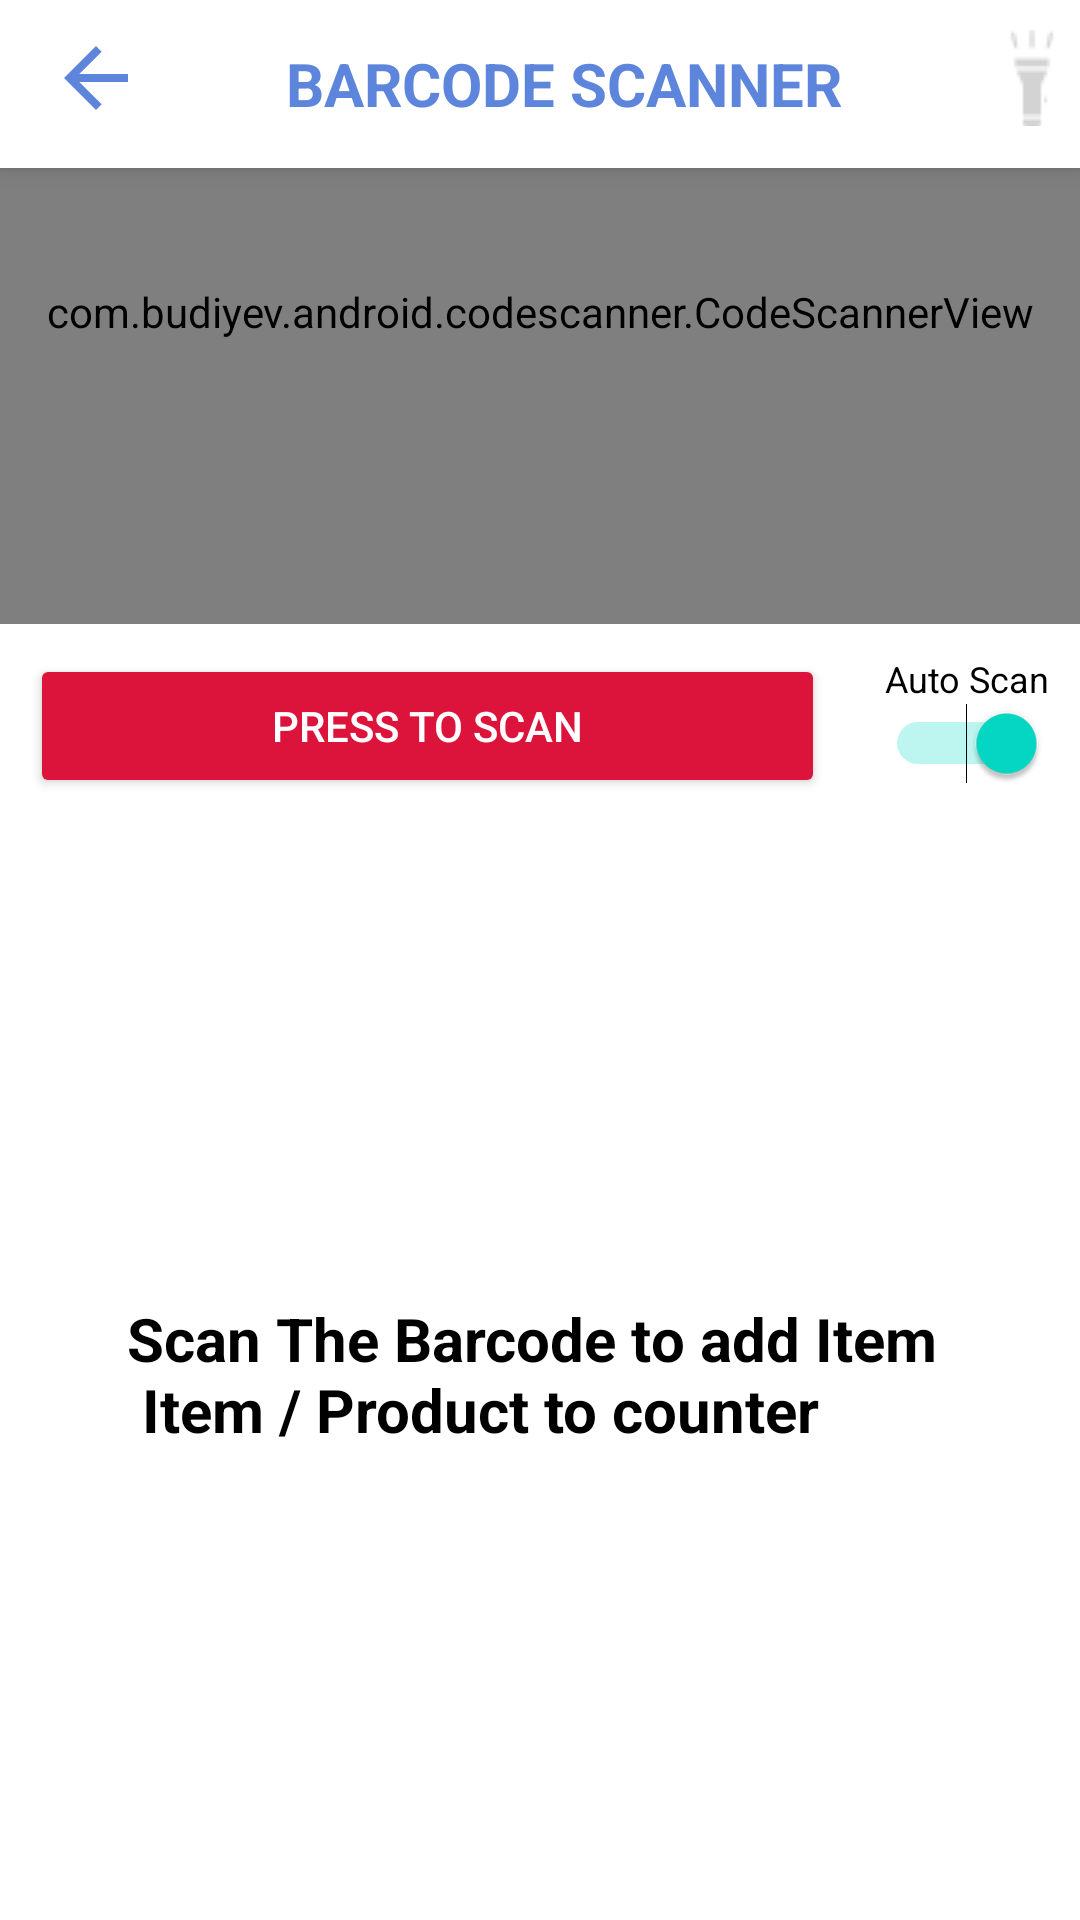

Icons on this 1080 × 1920 Android screen, each with the point to tap as [x,y]:
arrow back: [96,78]
torch: [1032,79]
